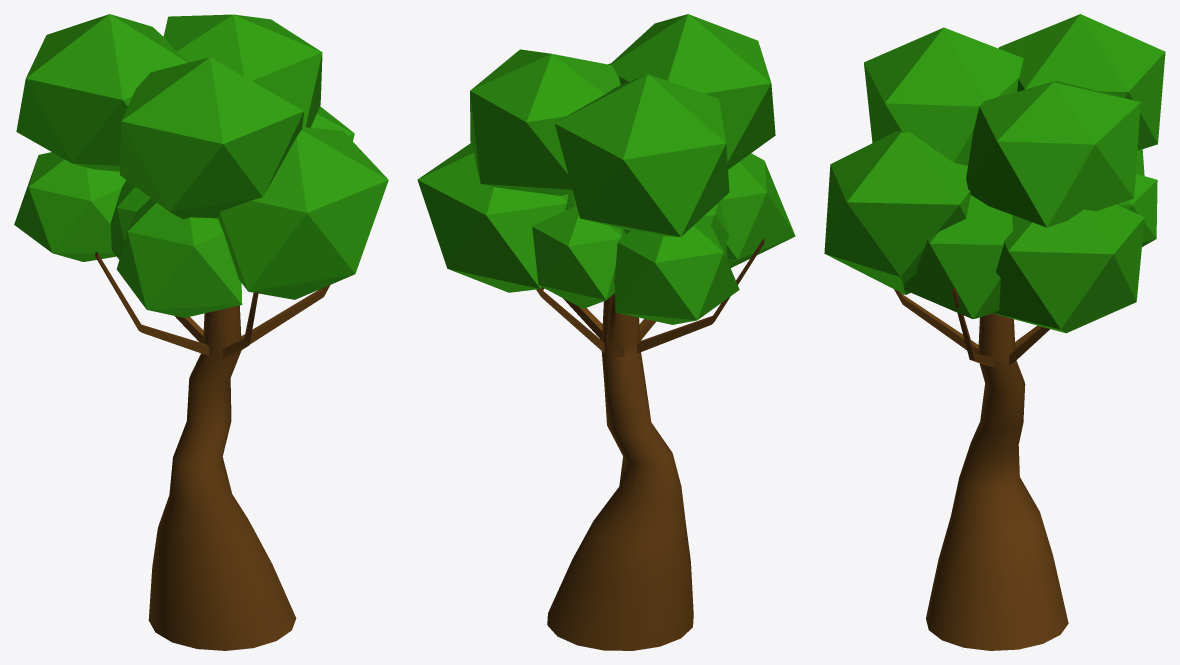
File: Tree_1.fbx
3 views of the same model, side by side, from view 1: azimuth 30°, elevation 25°; view 2: azimuth 150°, elevation 25°; view 3: azimuth 270°, elevation 25° (orthographic). The views are drawn at different scales.
Visible parts, largest first — view 1: Circle.004; view 2: Circle.004; view 3: Circle.004.
Part boxes in pixels (x1=…): Circle.004: x1=14, y1=14, x2=388, y2=650; Circle.004: x1=417, y1=14, x2=795, y2=650; Circle.004: x1=824, y1=14, x2=1165, y2=650.
Size of the model in its own units: 441 by 828 by 445.
